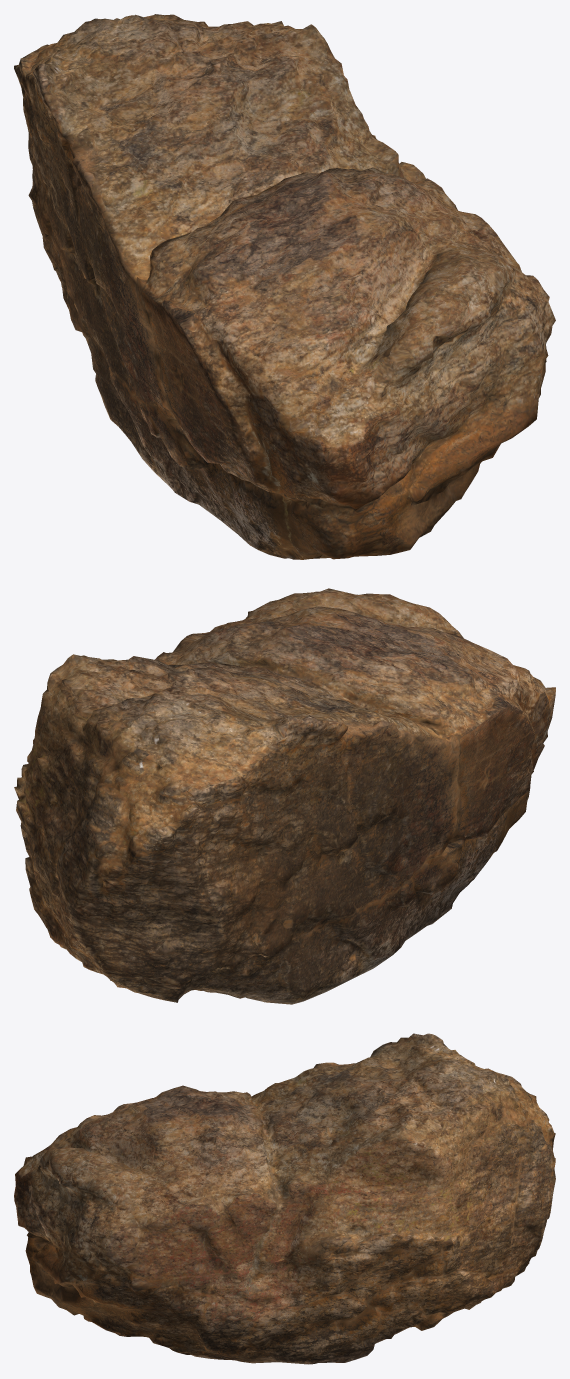
File: namaqualand_boulder_06_2k_lods.fbx
The picture shows the model from 3 angles, top to bottom: view 1: azimuth 30°, elevation 25°; view 2: azimuth 150°, elevation 25°; view 3: azimuth 270°, elevation 25°; orthographic projection. The views are drawn at different scales.
Visible parts, largest first — view 1: namaqualand_boulder_06_LOD0.001; view 2: namaqualand_boulder_06_LOD0.001; view 3: namaqualand_boulder_06_LOD0.001.
Boxes of the visible parts, x1,y1,x2,y2 form: namaqualand_boulder_06_LOD0.001: (14,14,555,559); namaqualand_boulder_06_LOD0.001: (14,588,555,1004); namaqualand_boulder_06_LOD0.001: (14,1033,555,1364).
Size of what is drawn, in the model's own units: 67.51 by 65.24 by 121.
